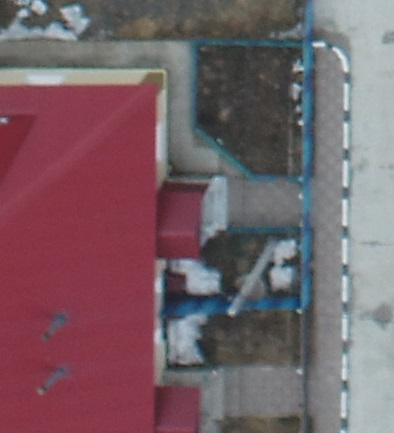opora: (221, 236, 278, 318)
